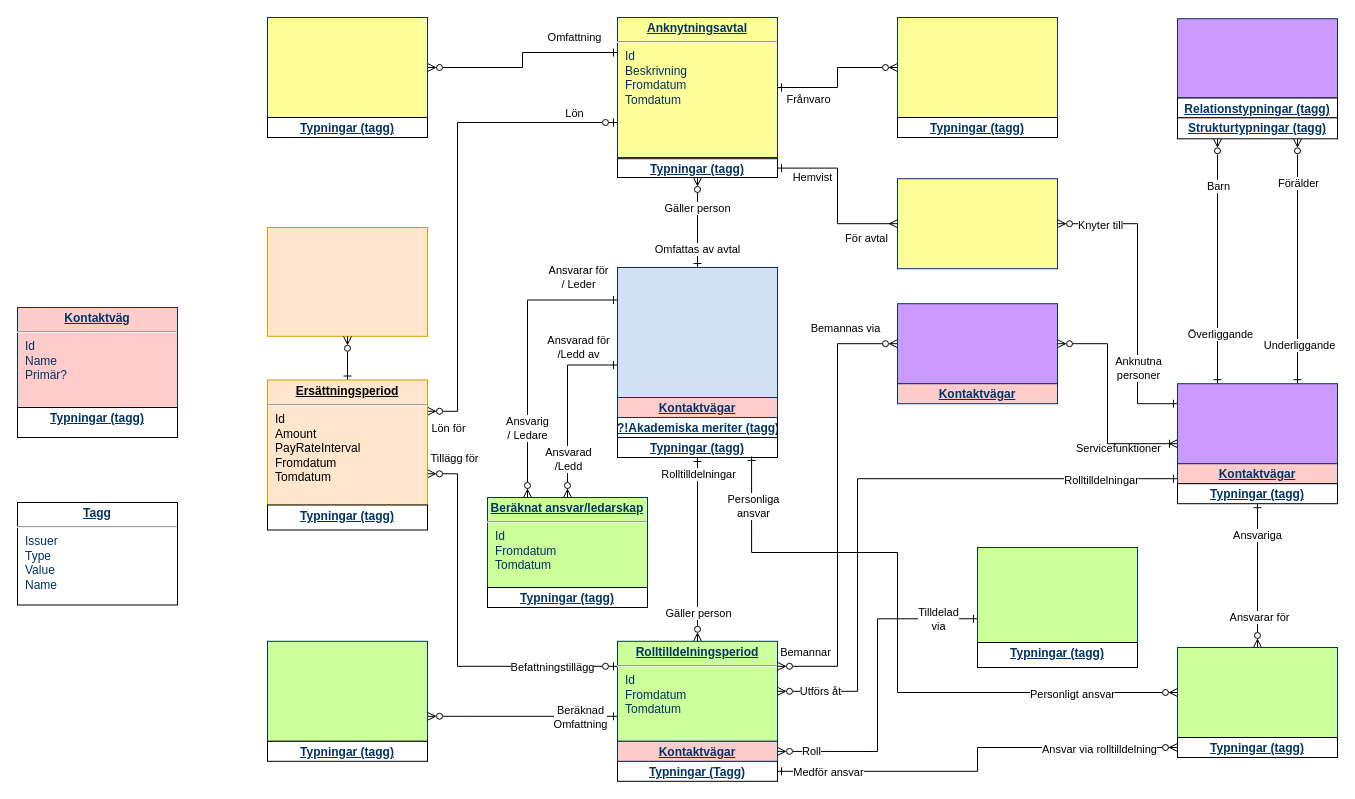
The diagram is 1355 pixels wide and 799 high, and some of its shapes have lost their labels. The shapes that lost their labels are listed below. From the top down, each one's centre as x and y in pixels, then its label:
At pixel 347 67: "Omfattningsperiod Id Omfattning Fromdatum Tomdatum".
At pixel 977 67: "Frånvaroperiod Id Omfattning Fromdatum Tomdatum".
At pixel 1257 58: "Orgenhetsrelation Id Fromdatum Tomdatum".
At pixel 977 223: "Hemvistperiod Id Fromdatum Tomdatum".
At pixel 347 281: "Konteringsperiod Id Percent Fromdatum Tomdatum".
At pixel 697 332: "Person Name Id MergedFromIds CorrelationIds previousCorrelationIds".
At pixel 977 343: "Servicefunktion Id Name".
At pixel 1257 423: "Orgenhet (aktör) Id Name".
At pixel 1057 594: "Roll Id Name".
At pixel 347 690: "Ber. Omfattningsperiod Id Omfattning Fromdatum Tomdatum".
At pixel 1257 692: "Ansvarsperiod Id Fromdatum Tomdatum".
